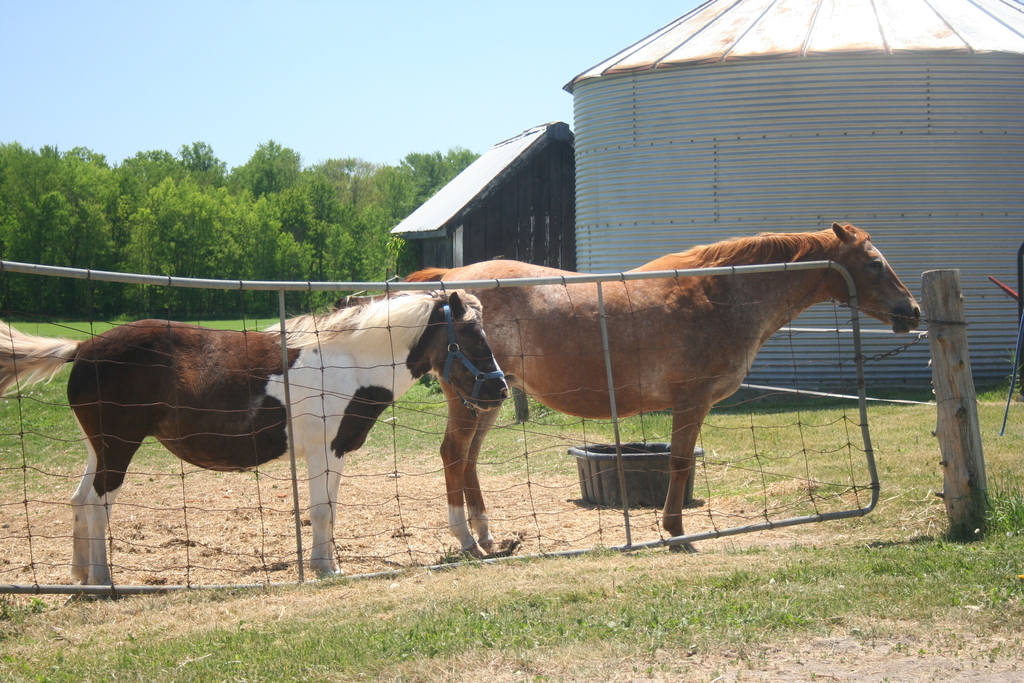Tree: (0, 142, 478, 317)
